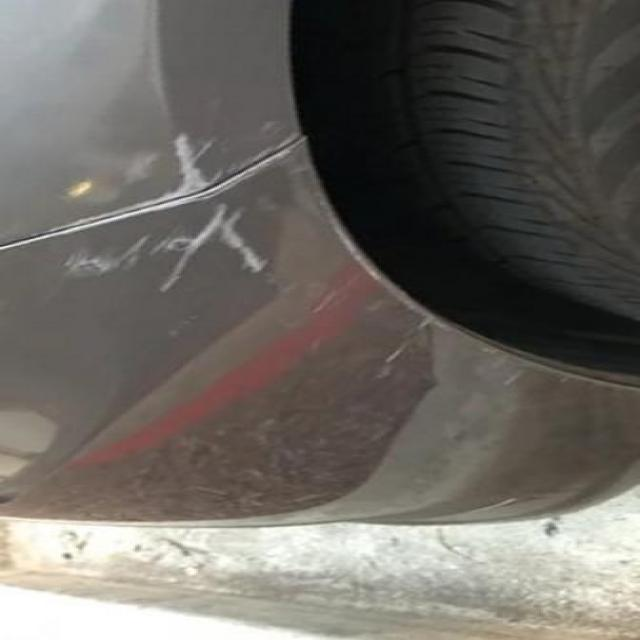scratch: (0, 120, 284, 297)
